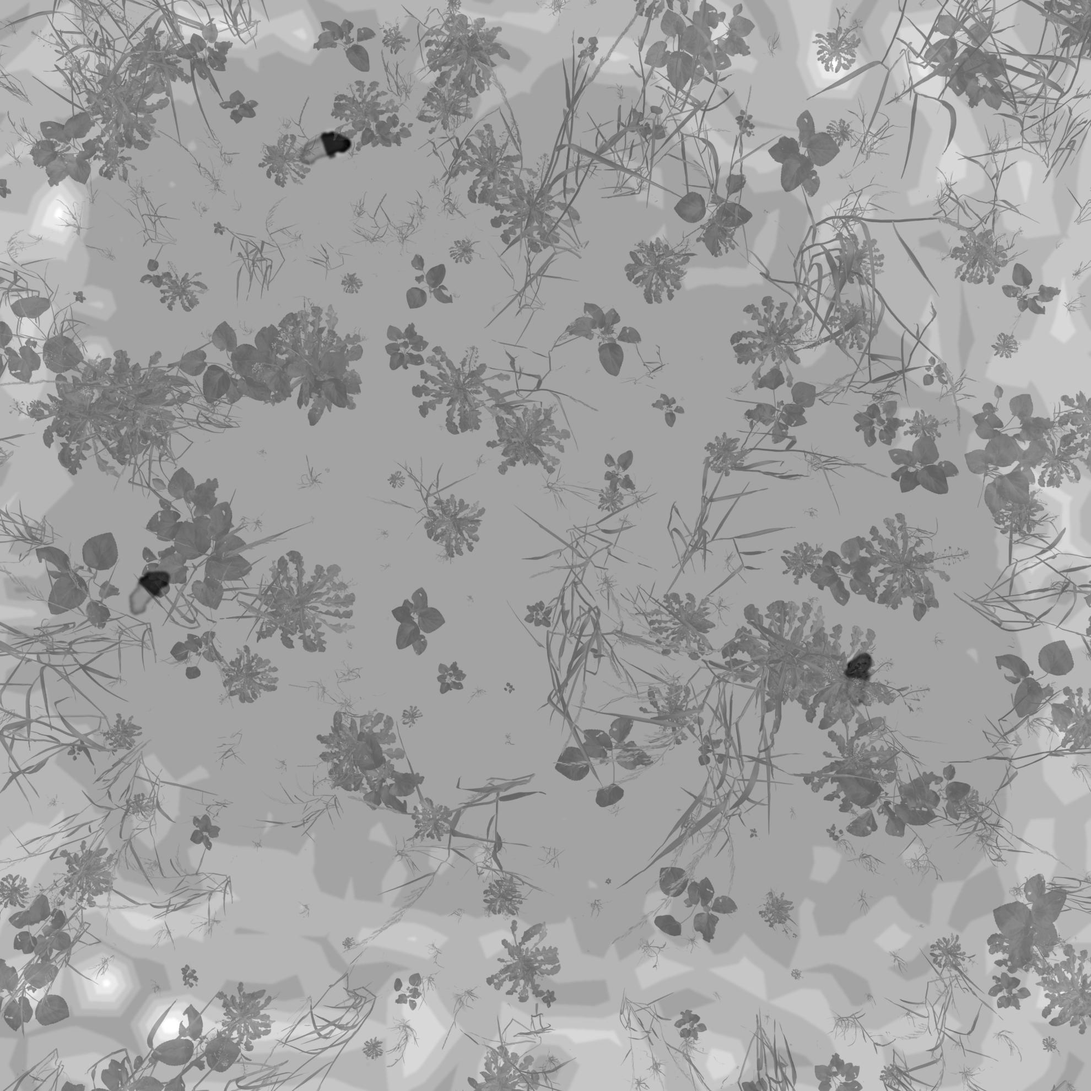landmine: (124, 568, 173, 618), (839, 651, 877, 711), (295, 131, 355, 169)
